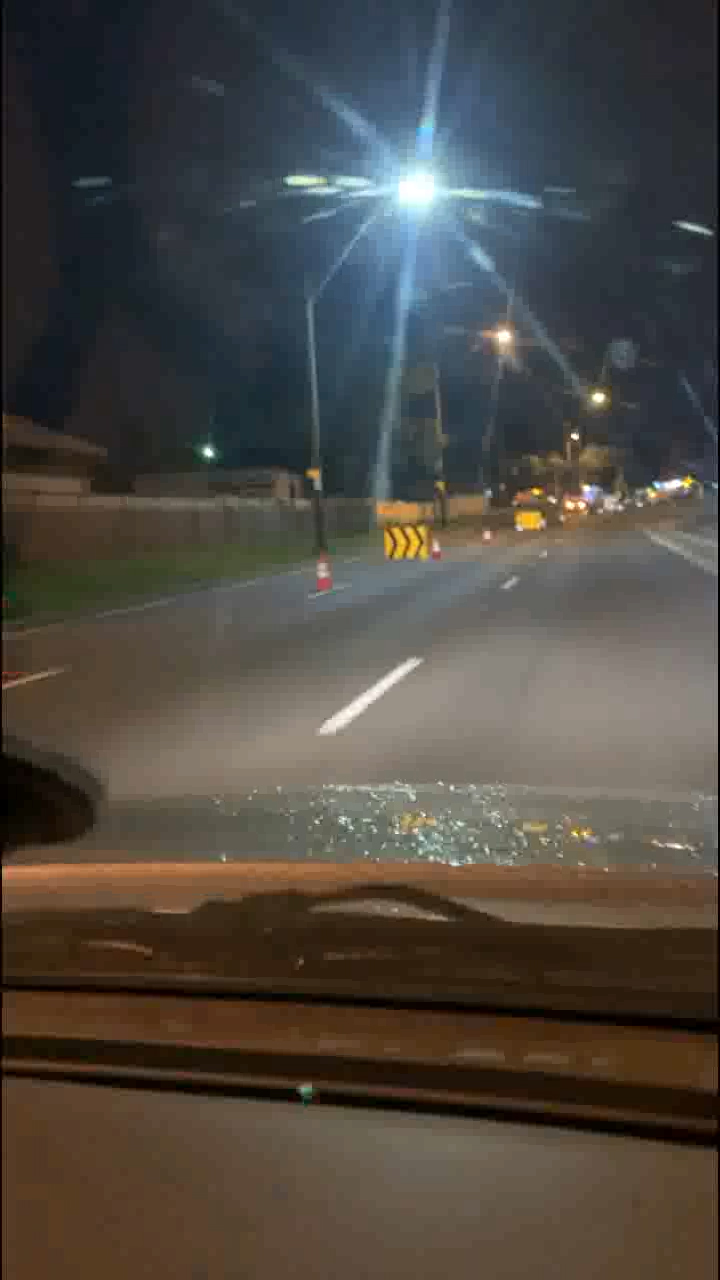road works sign board: (381, 525, 431, 561)
